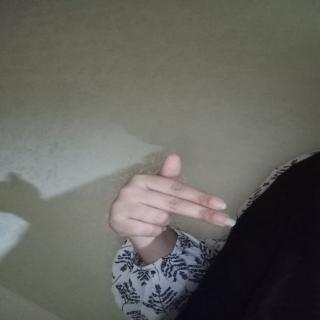GHAYN: (99, 150, 248, 253)
